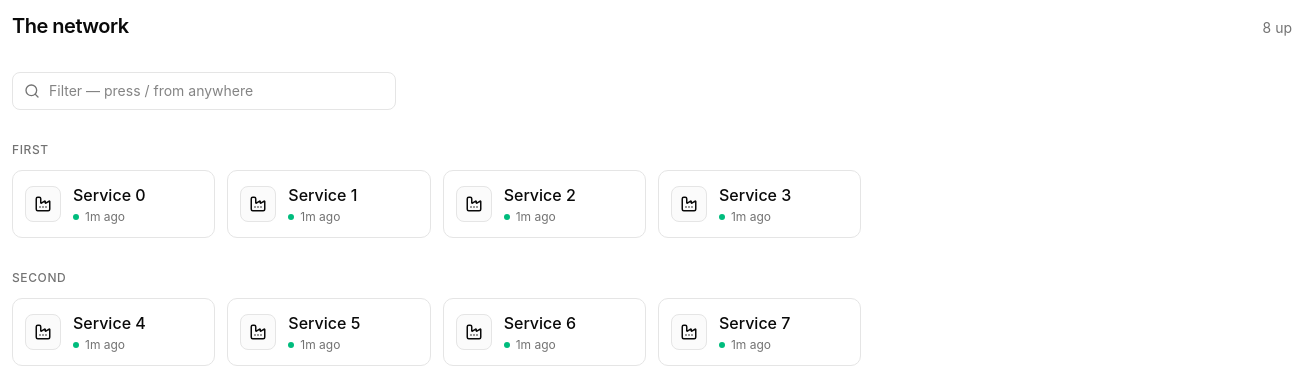
filtering › says so when nothing matches, rather than looking empty
In the search field named "Filter the network": (204, 91) x1=12 y1=72 x2=396 y2=110, type "zzzz"
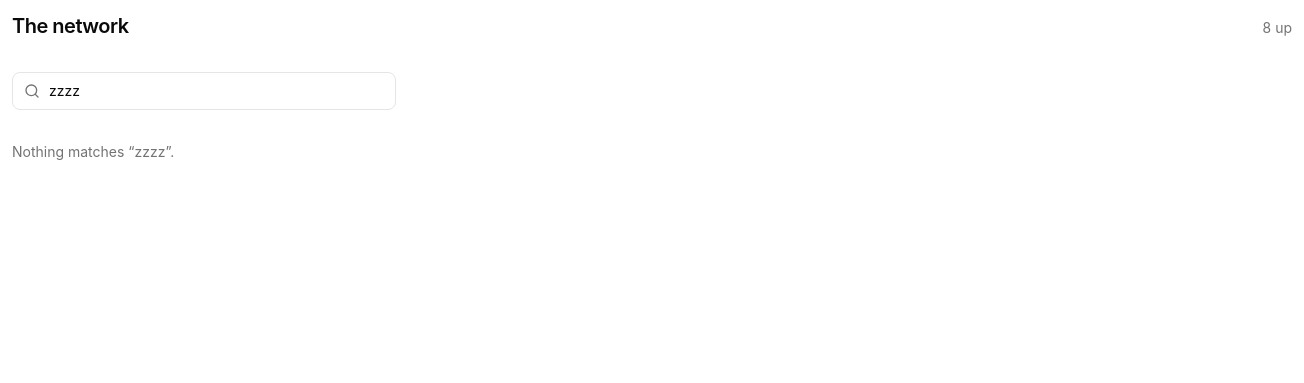
Now the text "Nothing matches “zzzz”." is shown, box x1=12 y1=143 x2=174 y2=160
